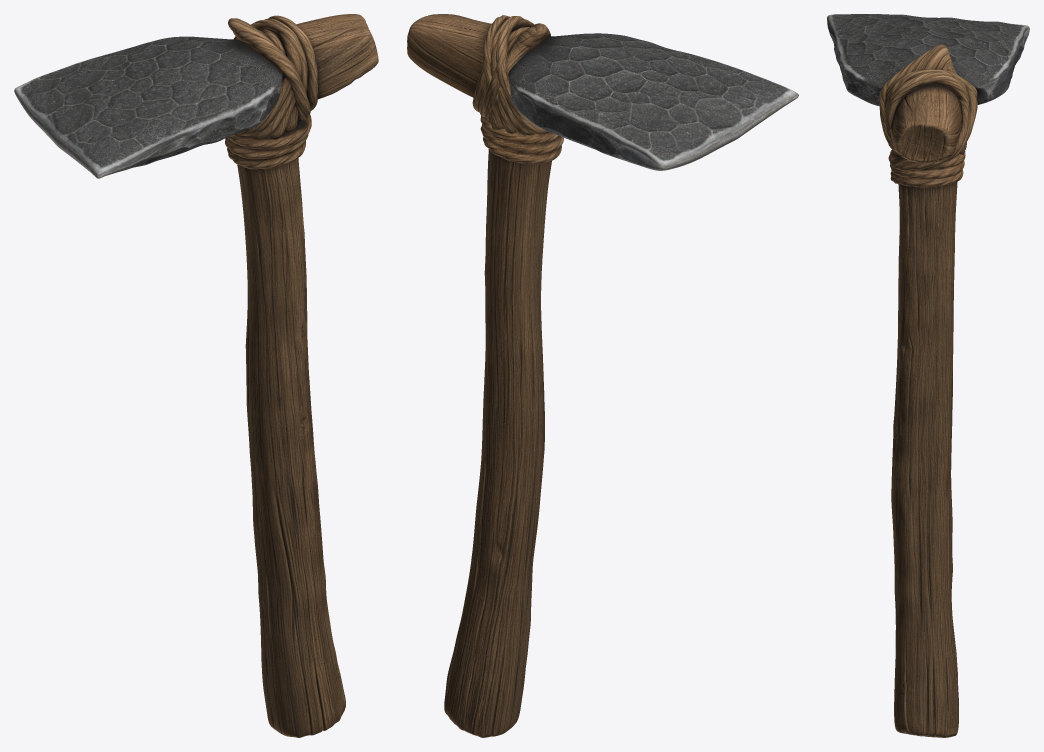
Rendered from Meshy_AI_Tool_5_Stone_Adze_20261107_image-to-3d-texture.fbx.
The picture shows the model from 3 angles, left to right: view 1: azimuth 30°, elevation 25°; view 2: azimuth 150°, elevation 25°; view 3: azimuth 270°, elevation 25°; orthographic projection. The views are drawn at different scales.
Parts seen in each view (by area): view 1: Mesh_0; view 2: Mesh_0; view 3: Mesh_0.
Part boxes in pixels (x1=…): Mesh_0: x1=14, y1=14, x2=378, y2=737; Mesh_0: x1=407, y1=14, x2=798, y2=737; Mesh_0: x1=827, y1=14, x2=1029, y2=737.
Bounding box in the file's own units: 90.41 × 190 × 52.63.
Materials: 1 (1 with a texture image).
